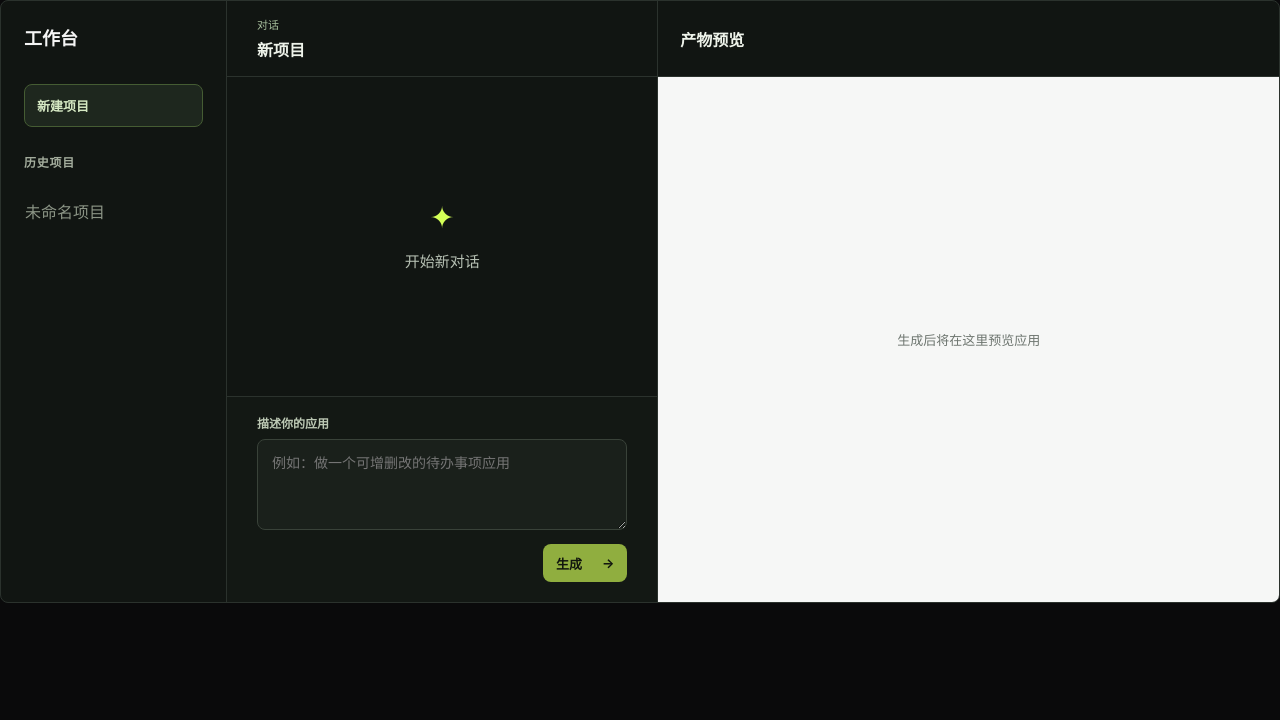
Test case: F9 工作台项目改名 › 保存新标题后同步工作台标题和历史列表
Click the button "未命名项目" at (114, 211), box [16,188,211,234]
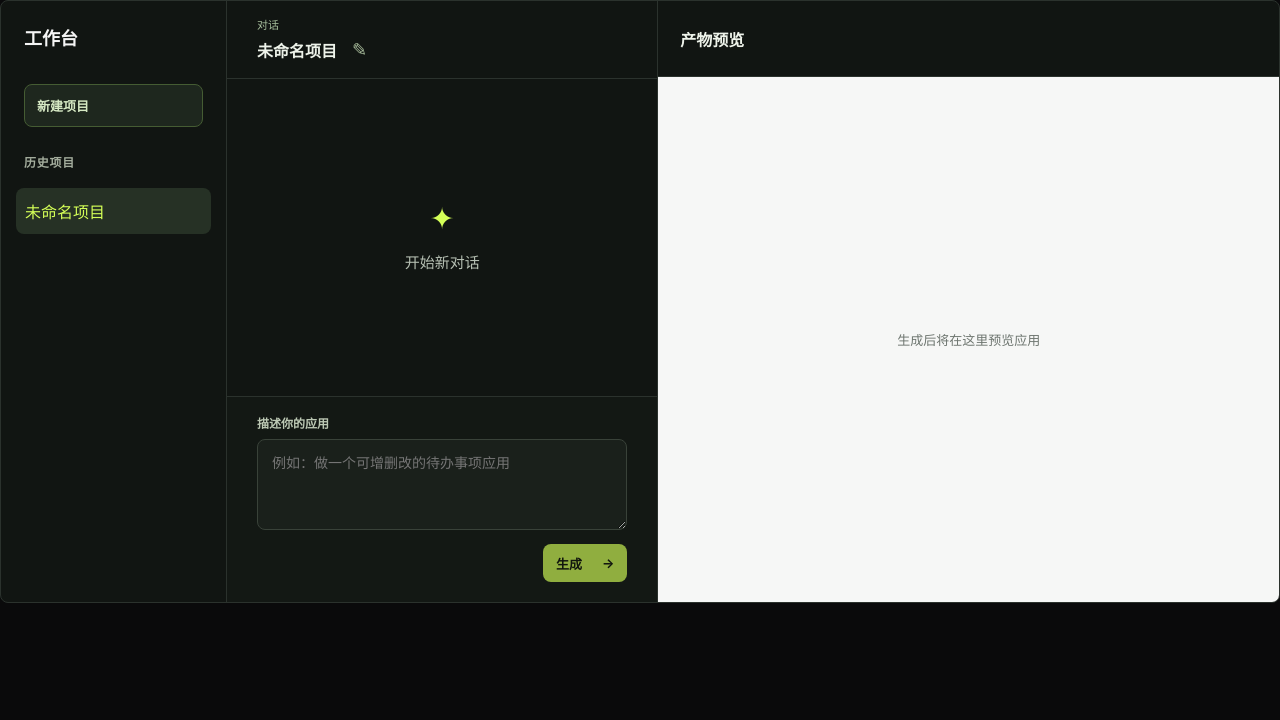
Expected: the heading "未命名项目" is shown, [257,38,337,62]
Click the button named "重命名项目" at (360, 50), box [346,37,373,63]
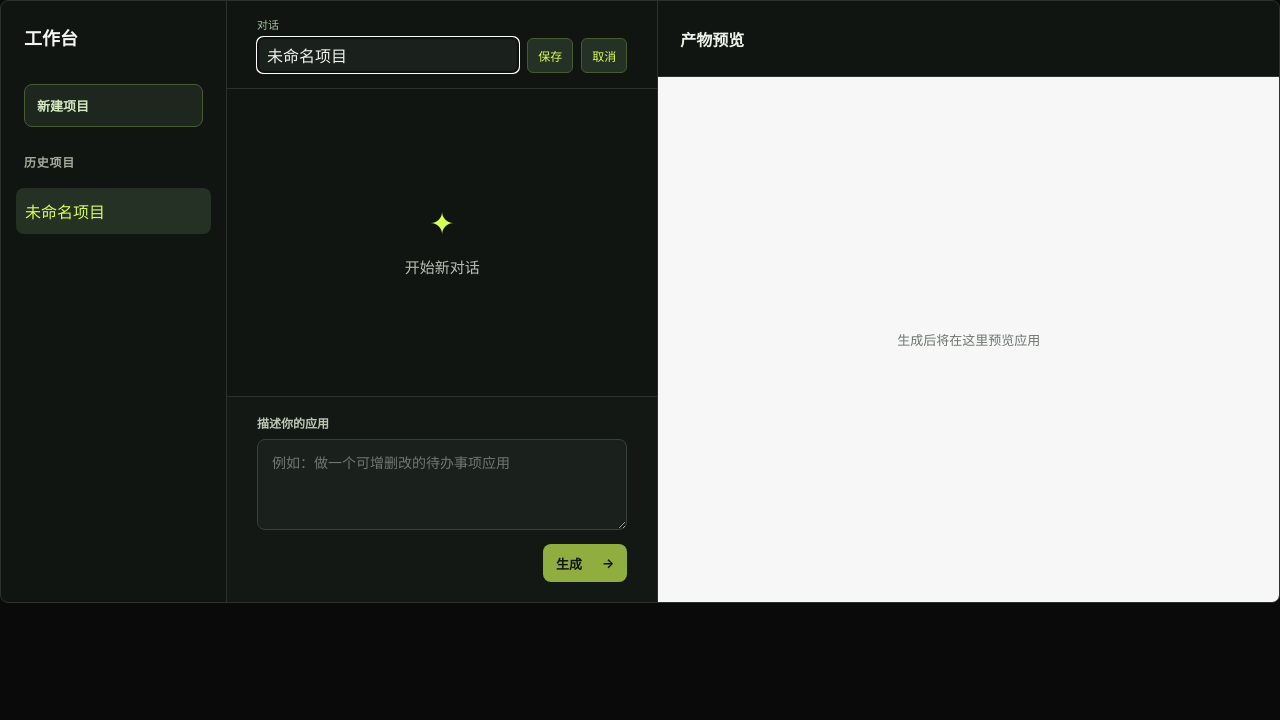
Replace the text in the field named "项目名称" with "我的看板" at (388, 55), box [257,37,519,73]
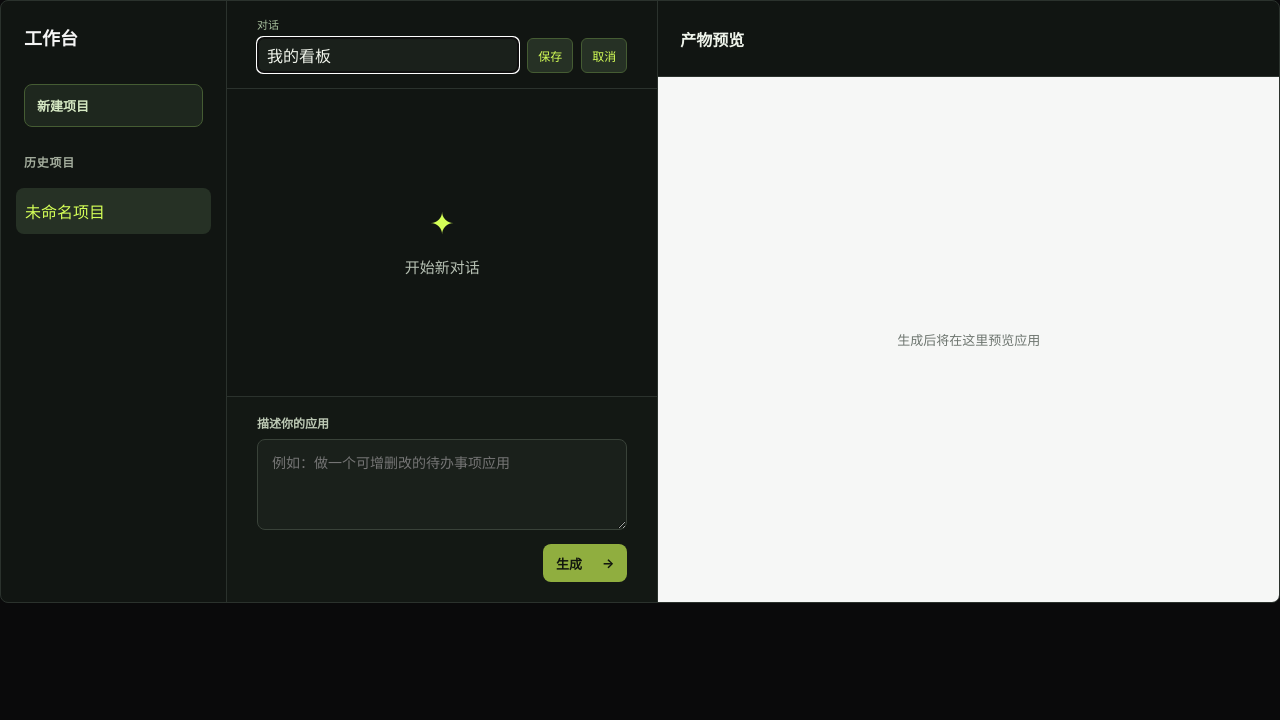
Click the button with aria-label "保存名称" at (550, 55), box [527,38,573,72]
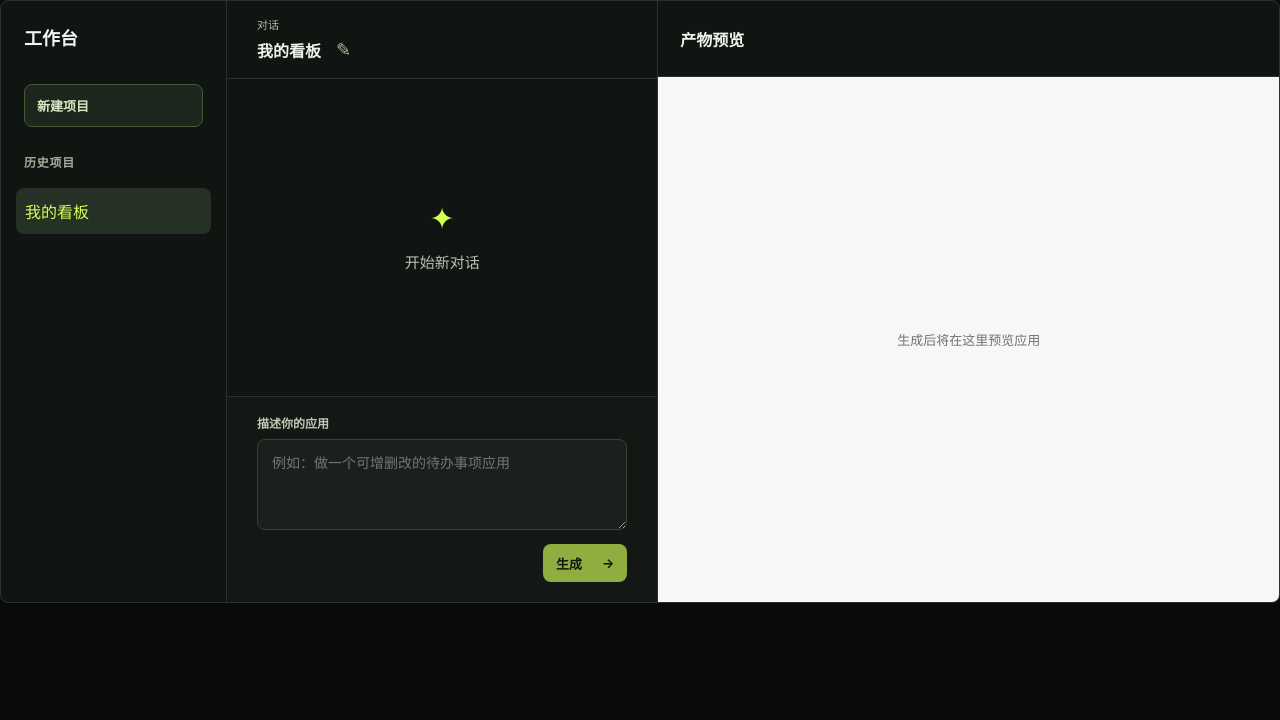
Expected: the heading "我的看板" is shown, [257,38,321,62]
Expected: the button "我的看板" is shown, [16,188,211,234]
